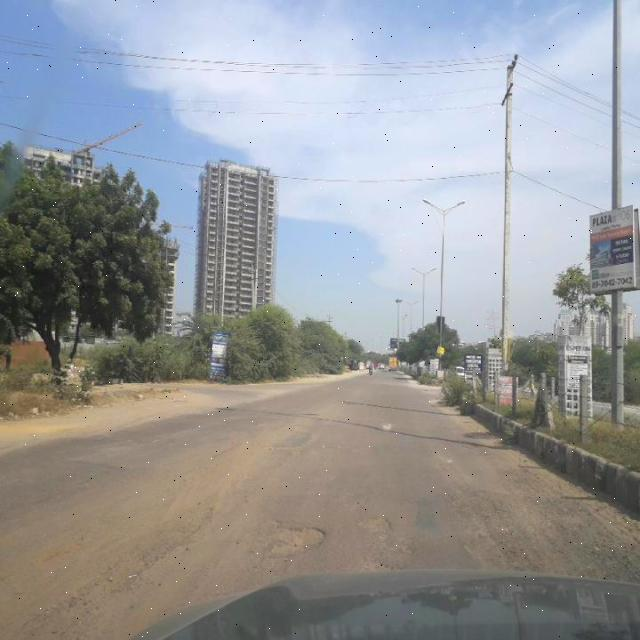D40: (28, 460, 248, 620), (455, 465, 639, 580), (261, 520, 330, 561), (348, 508, 416, 548)
